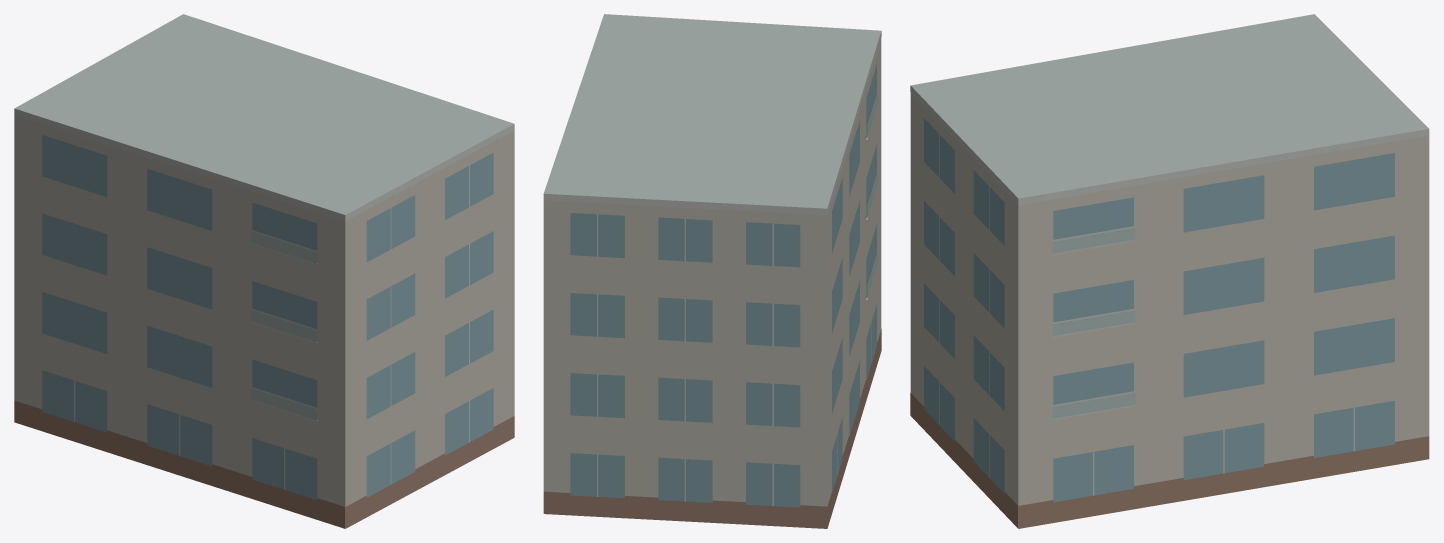
The model's file is survey-upis-32731634.glb.
The picture shows the model from 3 angles, left to right: view 1: azimuth 30°, elevation 25°; view 2: azimuth 150°, elevation 25°; view 3: azimuth 270°, elevation 25°; orthographic projection. The views are drawn at different scales.
Visible parts, largest first — view 1: survey-upis-32731634.tmp; view 2: survey-upis-32731634.tmp; view 3: survey-upis-32731634.tmp.
Boxes of the visible parts, x1,y1,x2,y2 form: survey-upis-32731634.tmp: (14,14,514,528); survey-upis-32731634.tmp: (543,14,881,528); survey-upis-32731634.tmp: (910,14,1429,528).
Bounding box in the file's own units: 14.4 × 12 × 17.1.
